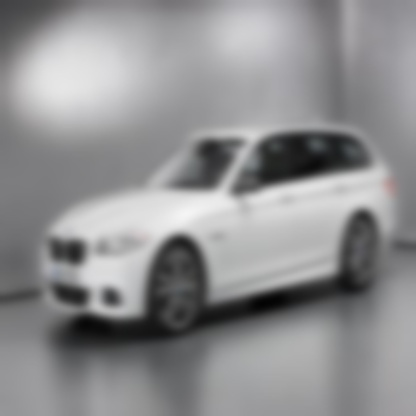Vehicle: (41, 116, 395, 340)
